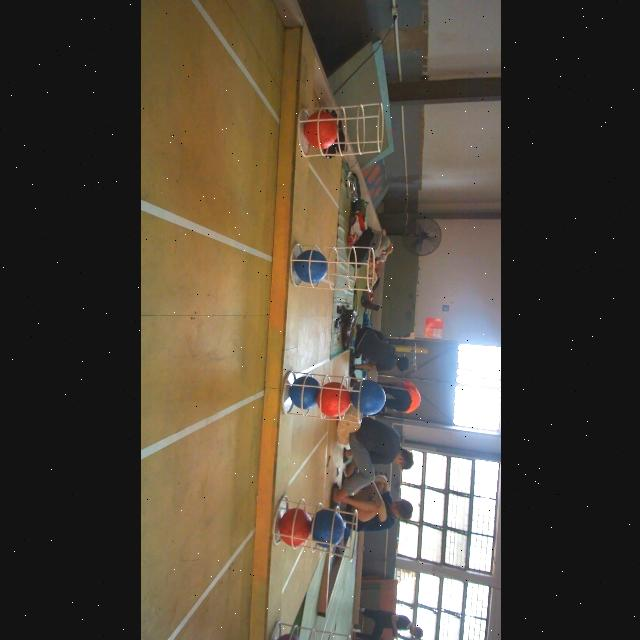B: (350, 380, 386, 416), (311, 510, 345, 546), (294, 252, 330, 282), (287, 378, 321, 408)
R: (302, 110, 336, 150), (275, 509, 311, 546), (317, 382, 349, 418)
